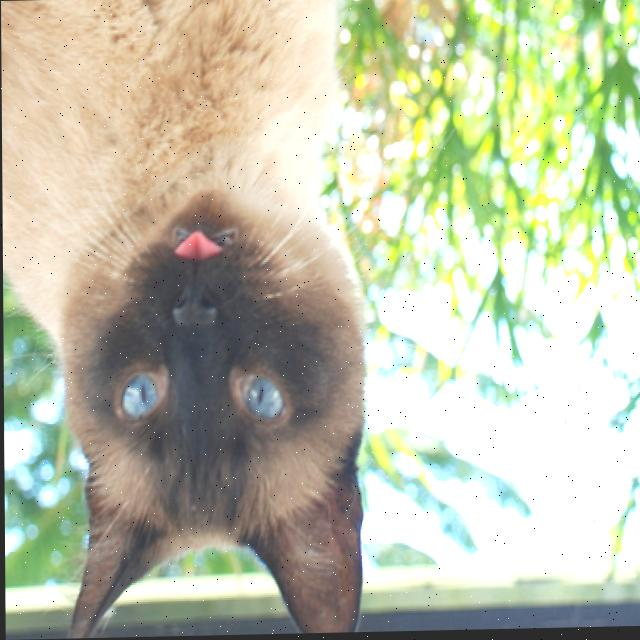Siamese: (0, 0, 375, 640)
